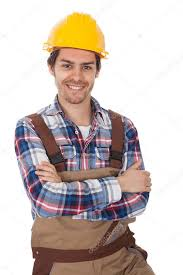Person_wearing_helmet: (41, 10, 112, 67)
